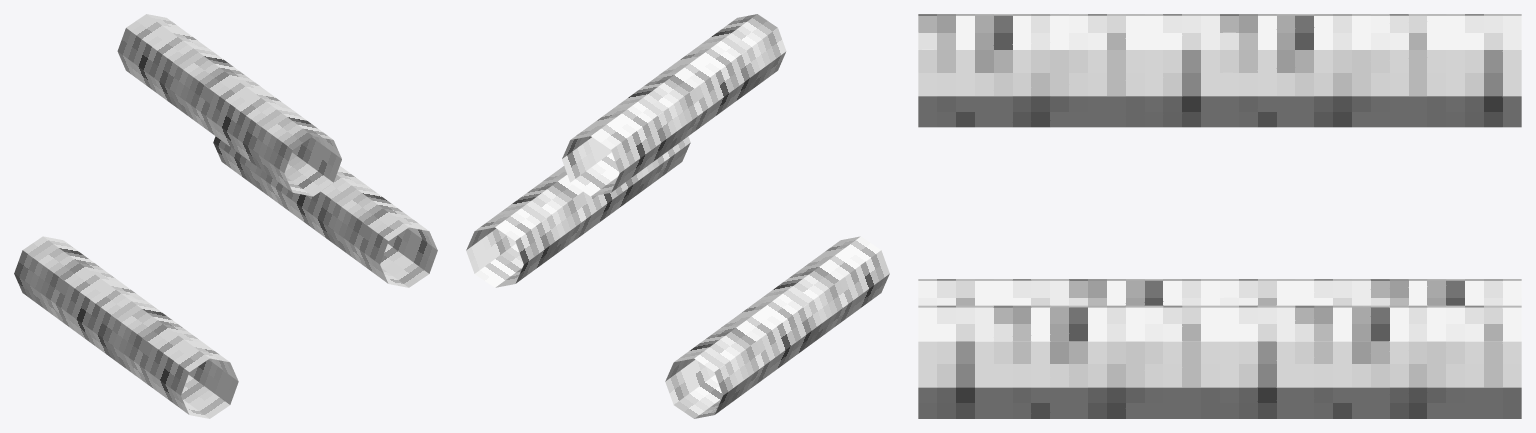
Rendered from tree-aspen-bottom.glb.
3 views of the same model, side by side, from view 1: azimuth 30°, elevation 25°; view 2: azimuth 150°, elevation 25°; view 3: azimuth 270°, elevation 25° (orthographic). The views are drawn at different scales.
Parts seen in each view (by area): view 1: tree-aspen-bottom; view 2: tree-aspen-bottom; view 3: tree-aspen-bottom.
Part boxes in pixels (left/top/right/bottom): tree-aspen-bottom: left=14, top=14, right=437, bottom=418; tree-aspen-bottom: left=466, top=14, right=889, bottom=418; tree-aspen-bottom: left=918, top=14, right=1521, bottom=418.
Bounding box in the file's own units: 0.889 × 0.8517 × 1.
1 material, 1 textured.
